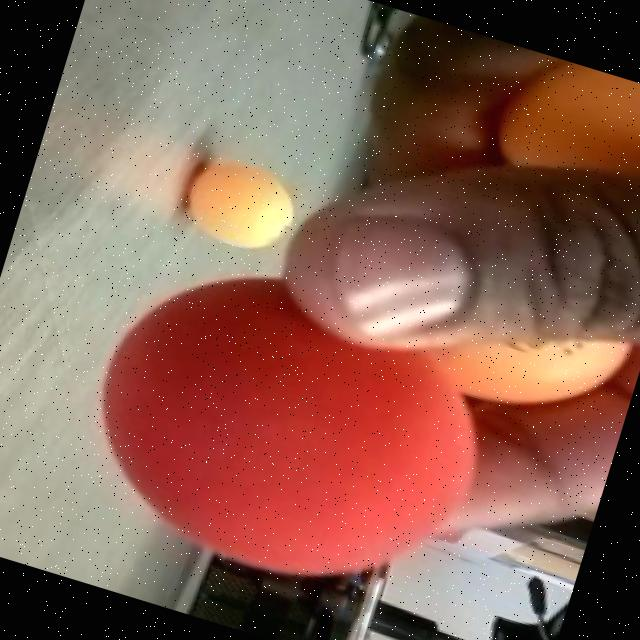ping-pong-ball: (58, 236, 512, 625), (173, 151, 302, 262)
